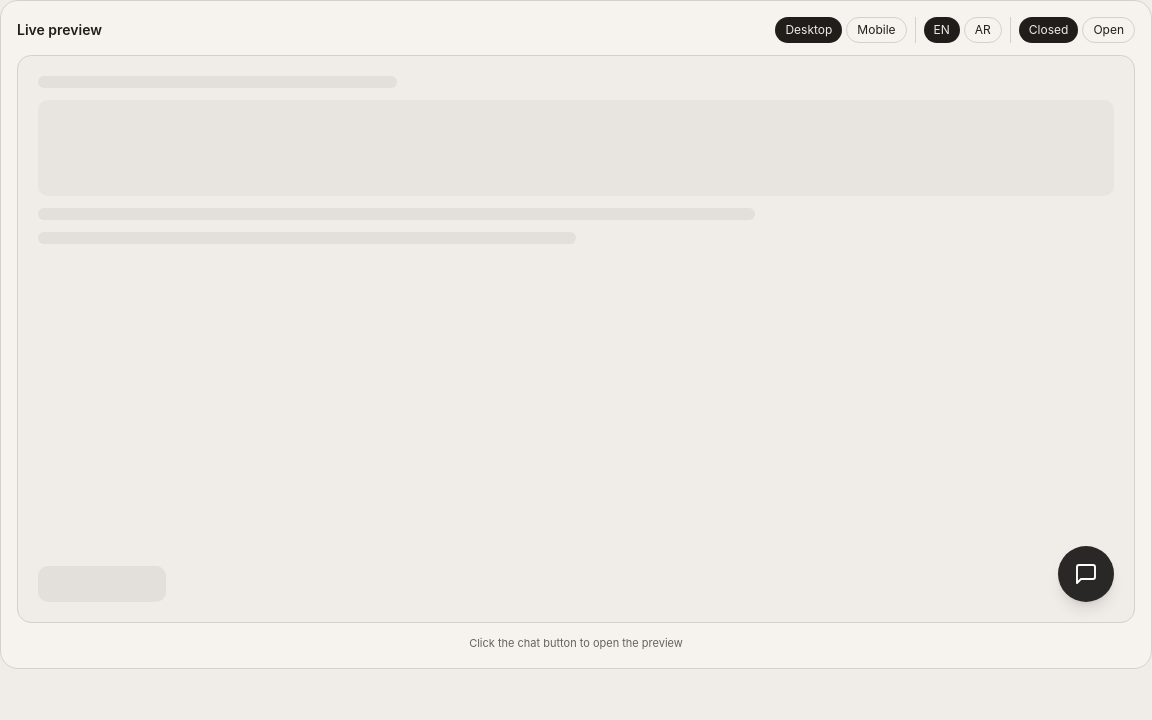
PreviewFrame › reserves space at the bottom for the launcher instead of letting the open panel fill the whole box
The image size is (1152, 720).
Click the button "Open".
click(1109, 30)  # box [1082,17,1135,43]
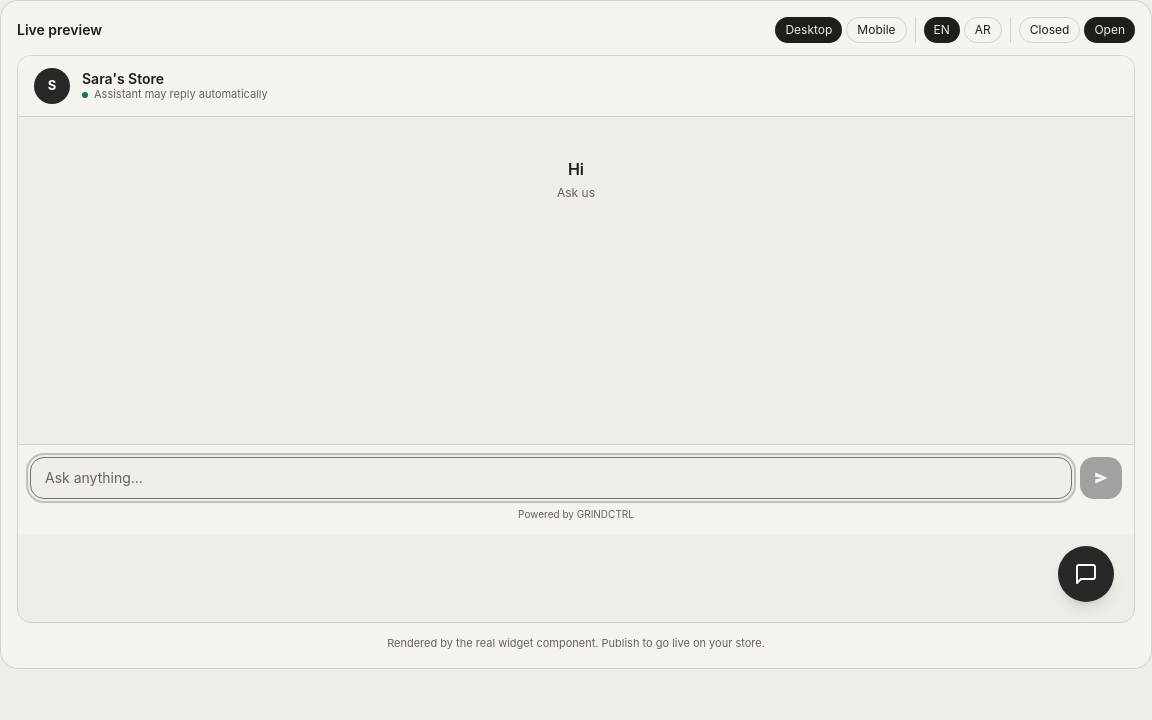
Result: the element with class "top-0" is shown
